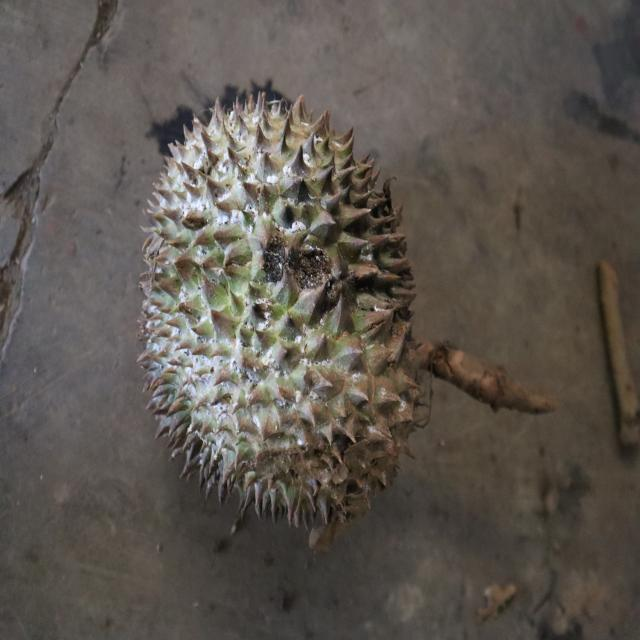defective: (137, 92, 422, 529)
